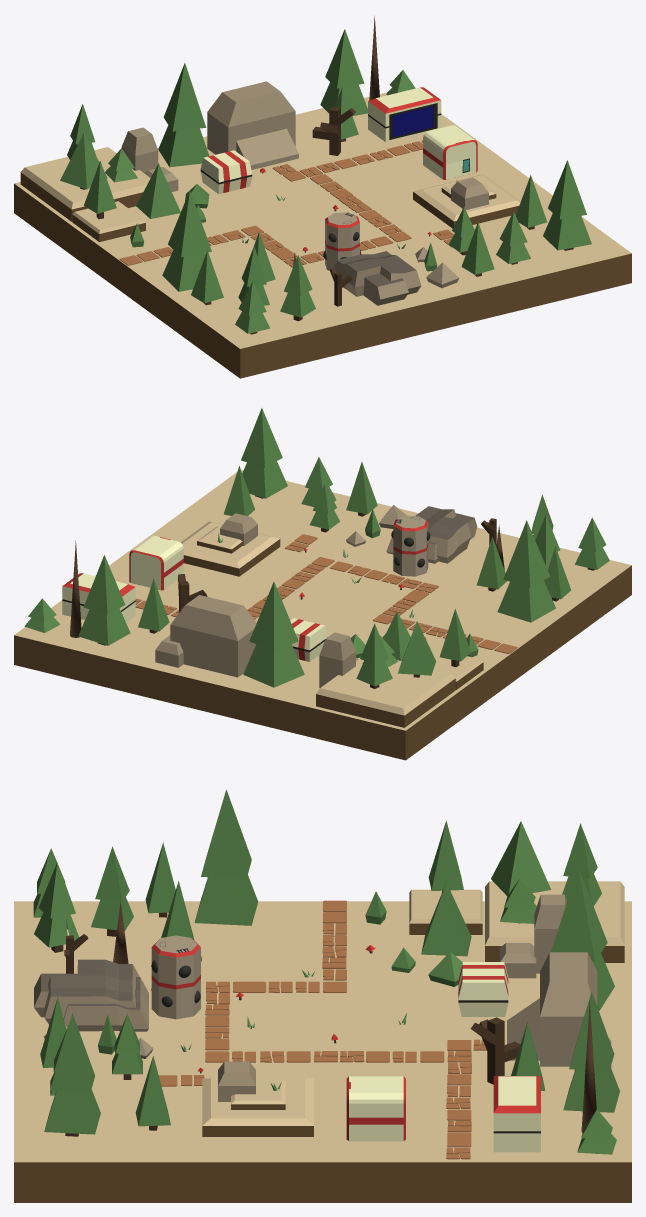
The model's file is MAP_NYA_TOWER_DEFEND.fbx.
The picture shows the model from 3 angles, top to bottom: view 1: azimuth 30°, elevation 25°; view 2: azimuth 150°, elevation 25°; view 3: azimuth 270°, elevation 25°; orthographic projection. The views are drawn at different scales.
Parts seen in each view (by area): view 1: Cube, Cube.030, Cube.004, Cube.047, Cube.013, Cube.017, Cube.039, Cube.027, Cube.048, Cube.019, Cube.044, Cube.032 (+22 smaller); view 2: Cube, Cube.004, Cube.030, Cube.013, Cube.017, Cube.044, Cube.027, Cube.039, Cube.048, Cube.019, Cylinder, Cube.025 (+21 smaller); view 3: Cube, Cube.019, Cube.030, Cube.017, Cube.027, Cube.004, Cube.039, Cube.048, Cube.047, Cylinder, Cube.013, Cube.044 (+26 smaller).
Boxes of the visible parts, x1=… form: Cube: x1=14, y1=92, x2=631, y2=378; Cube.030: x1=207, y1=81, x2=295, y2=154; Cube.004: x1=20, y1=147, x2=150, y2=221; Cube.047: x1=368, y1=87, x2=441, y2=142; Cube.013: x1=158, y1=63, x2=209, y2=167; Cube.017: x1=162, y1=190, x2=211, y2=291; Cube.039: x1=543, y1=160, x2=591, y2=250; Cube.027: x1=413, y1=174, x2=520, y2=228; Cube.048: x1=423, y1=125, x2=477, y2=179; Cube.019: x1=333, y1=251, x2=421, y2=296; Cube.044: x1=320, y1=29, x2=367, y2=115; Cube.032: x1=200, y1=150, x2=252, y2=193; Cube: x1=14, y1=470, x2=631, y2=760; Cube.004: x1=316, y1=659, x2=455, y2=727; Cube.030: x1=170, y1=595, x2=256, y2=677; Cube.013: x1=243, y1=581, x2=304, y2=687; Cube.017: x1=497, y1=520, x2=555, y2=622; Cube.044: x1=78, y1=555, x2=130, y2=645; Cube.027: x1=181, y1=521, x2=280, y2=576; Cube.039: x1=241, y1=408, x2=287, y2=498; Cube.048: x1=129, y1=535, x2=183, y2=590; Cube.019: x1=386, y1=506, x2=470, y2=563; Cylinder: x1=393, y1=515, x2=428, y2=576; Cube.025: x1=319, y1=632, x2=355, y2=687; Cube: x1=14, y1=901, x2=631, y2=1202; Cube.019: x1=44, y1=959, x2=148, y2=1031; Cube.030: x1=540, y1=952, x2=597, y2=1066; Cube.017: x1=194, y1=789, x2=258, y2=925; Cube.027: x1=202, y1=1078, x2=313, y2=1136; Cube.004: x1=485, y1=881, x2=624, y2=962; Cube.039: x1=44, y1=1013, x2=100, y2=1136; Cube.048: x1=346, y1=1076, x2=405, y2=1141; Cube.047: x1=493, y1=1076, x2=540, y2=1152; Cylinder: x1=151, y1=935, x2=200, y2=1019; Cube.013: x1=551, y1=868, x2=614, y2=1010; Cube.044: x1=563, y1=991, x2=619, y2=1112.
Bounding box in the file's own units: 2962 × 926 × 2962.
